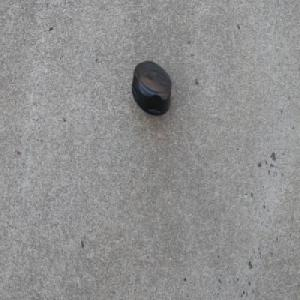FuelCap: (130, 59, 172, 120)
